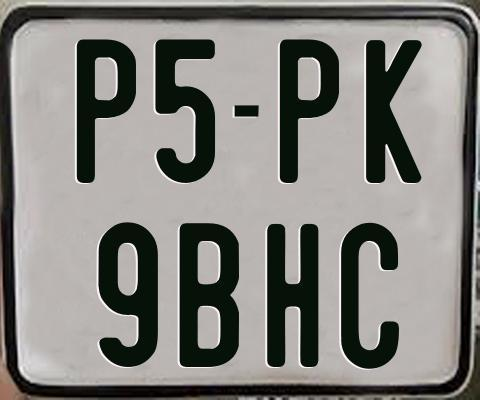5: (154, 39, 219, 184)
9: (98, 221, 164, 367)
B: (178, 221, 240, 370)
C: (339, 220, 403, 369)
H: (266, 224, 320, 368)
K: (363, 37, 424, 185)
P: (278, 39, 343, 183), (76, 36, 137, 186)
